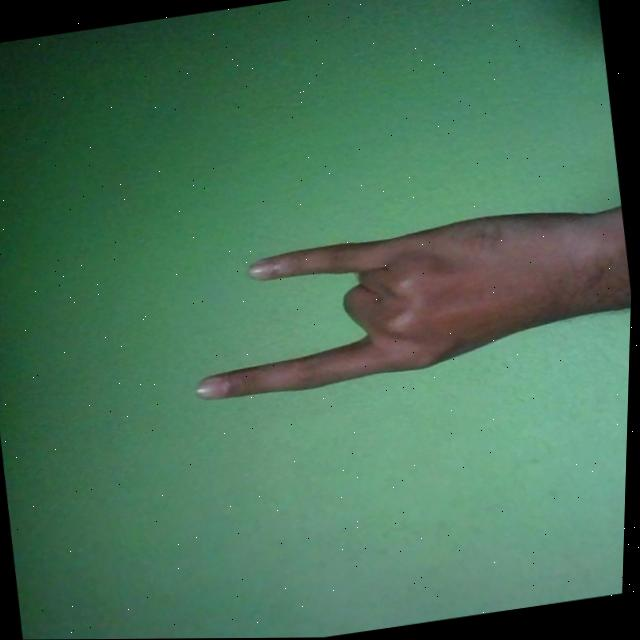Rock On: (181, 198, 634, 404)
